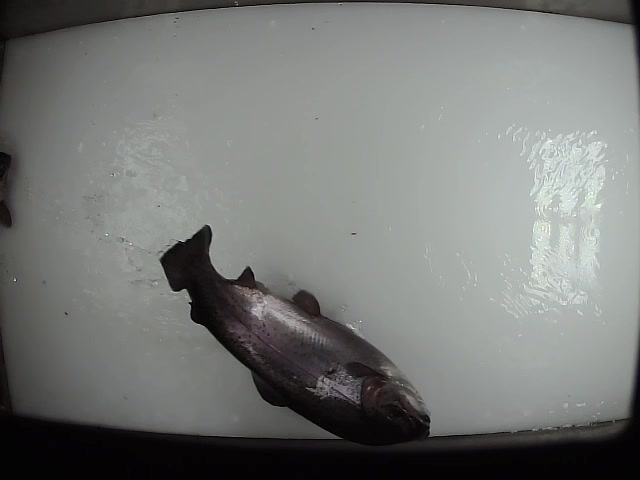fish: (159, 222, 433, 450)
